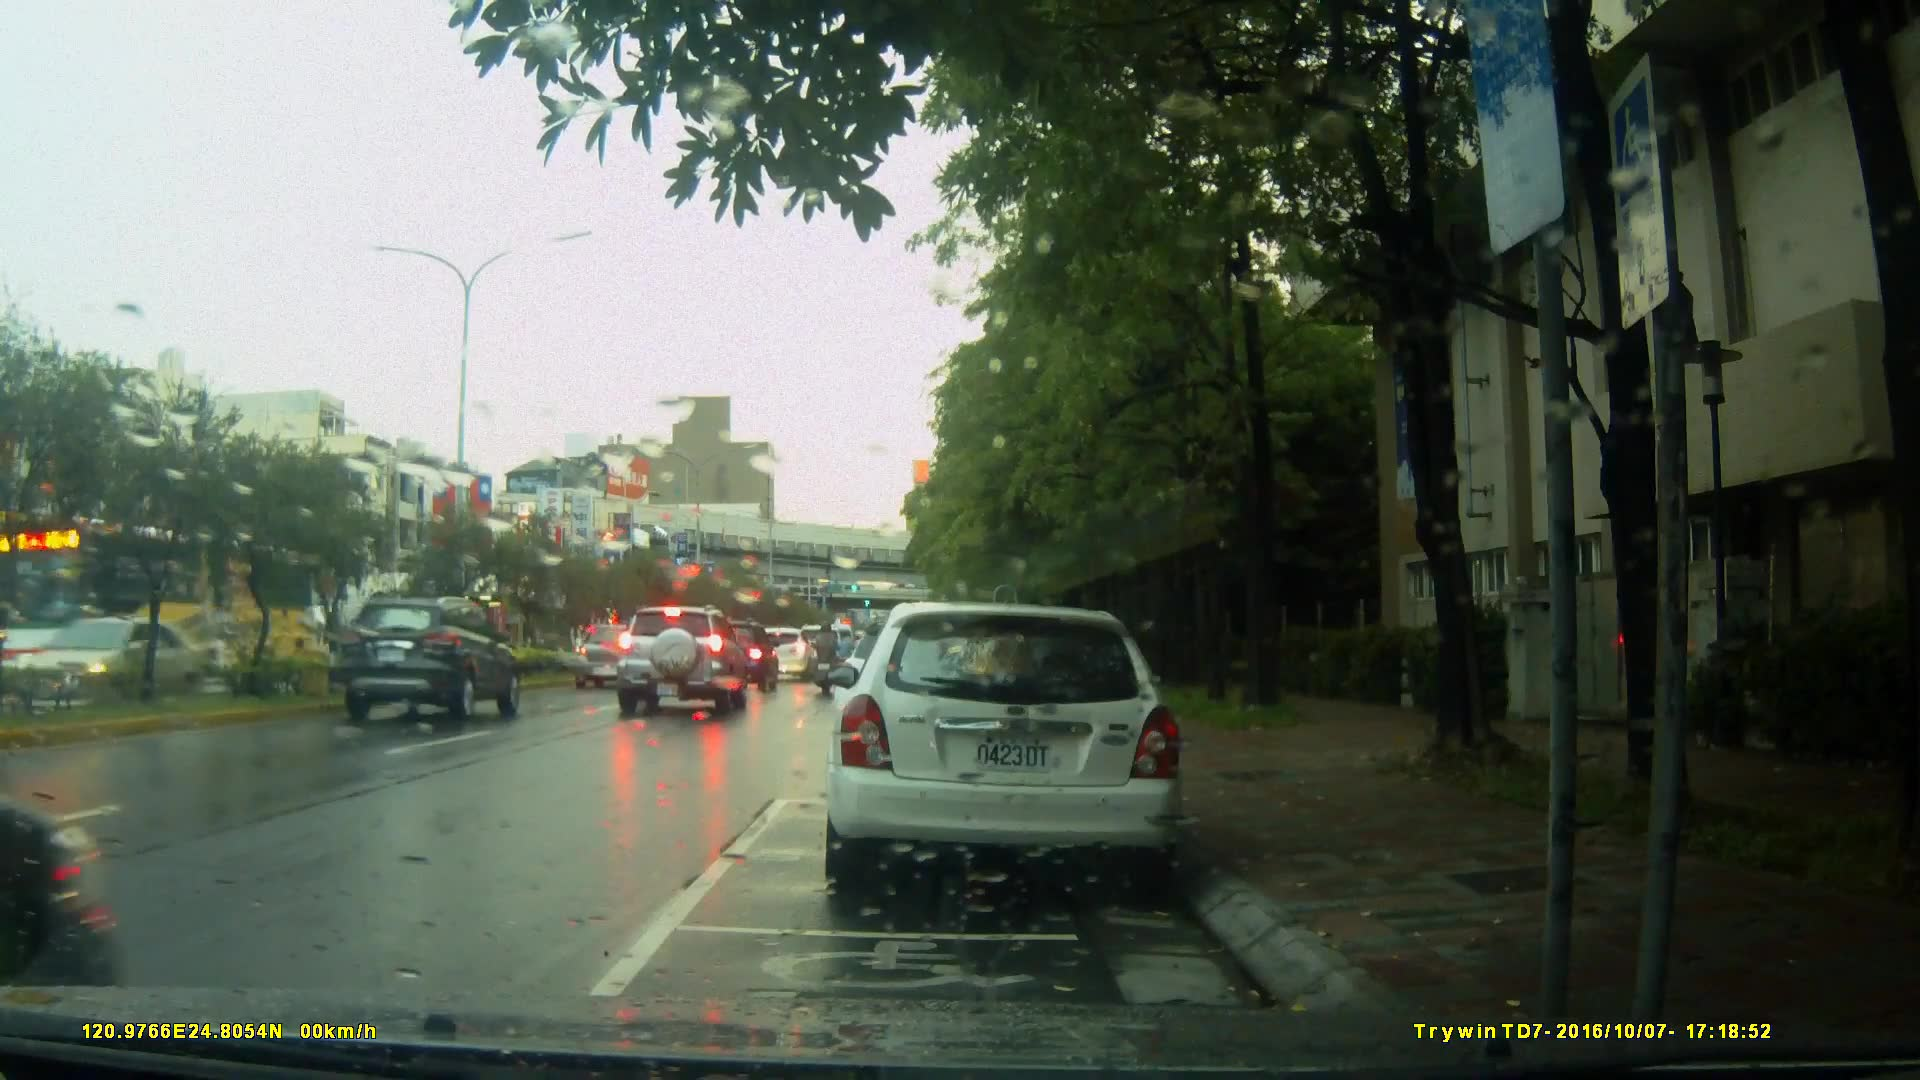rider: (809, 619, 845, 703)
vehicle: (820, 602, 1188, 898), (2, 528, 321, 686), (337, 591, 524, 722), (611, 604, 747, 720)
